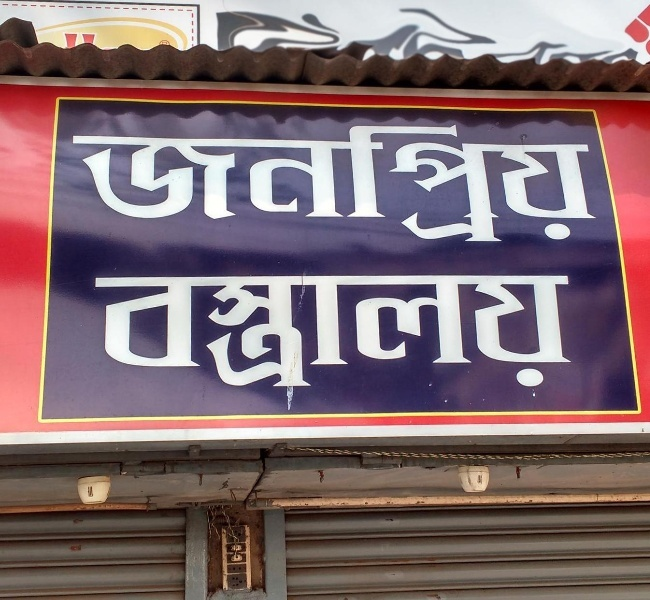text: (81, 122, 96, 256), (97, 122, 112, 256), (113, 122, 128, 256), (129, 122, 144, 256), (145, 122, 160, 256), (161, 122, 176, 256), (177, 122, 192, 256), (193, 122, 208, 256), (209, 122, 224, 256), (225, 122, 240, 256), (241, 122, 256, 256), (257, 122, 272, 256), (273, 122, 288, 256), (289, 122, 304, 256), (305, 122, 320, 256), (321, 122, 336, 256), (337, 122, 352, 256), (353, 122, 368, 256), (369, 122, 384, 256), (385, 122, 400, 256), (401, 122, 416, 256), (417, 122, 432, 256), (433, 122, 448, 256), (449, 122, 464, 256), (465, 122, 480, 256), (481, 122, 496, 256), (497, 122, 512, 256), (513, 122, 528, 256), (529, 122, 544, 256), (545, 122, 560, 256), (561, 122, 576, 256), (577, 122, 592, 256), (97, 267, 112, 391), (113, 267, 128, 391), (129, 267, 144, 391), (145, 267, 160, 391), (161, 267, 176, 391), (177, 267, 192, 391), (193, 267, 208, 391), (209, 267, 224, 391), (225, 267, 240, 391), (241, 267, 256, 391), (257, 267, 272, 391), (273, 267, 288, 391), (289, 267, 304, 391), (305, 267, 320, 391), (321, 267, 336, 391), (337, 267, 352, 391), (353, 267, 368, 391), (369, 267, 384, 391), (385, 267, 400, 391), (401, 267, 416, 391), (417, 267, 432, 391), (433, 267, 448, 391), (449, 267, 464, 391), (465, 267, 480, 391), (481, 267, 496, 391), (497, 267, 512, 391), (513, 267, 528, 391), (529, 267, 544, 391), (545, 267, 560, 391), (561, 267, 576, 391), (69, 122, 80, 256), (593, 122, 603, 256), (225, 4, 240, 67), (241, 4, 256, 67), (257, 4, 272, 67), (273, 4, 288, 67), (289, 4, 304, 67), (305, 4, 320, 67), (321, 4, 336, 67), (337, 4, 352, 67), (353, 4, 368, 67), (369, 4, 384, 67), (385, 4, 400, 67), (401, 4, 416, 67), (417, 4, 432, 67), (433, 4, 448, 67), (449, 4, 464, 67), (465, 4, 480, 67), (481, 4, 496, 67), (497, 4, 512, 67), (513, 4, 528, 67), (529, 4, 544, 67), (545, 4, 560, 67), (561, 4, 576, 67), (577, 4, 592, 67), (593, 4, 608, 67), (609, 4, 624, 67), (625, 4, 640, 67), (90, 267, 96, 391), (213, 4, 224, 67), (641, 4, 650, 67), (577, 267, 581, 391), (65, 30, 80, 45), (81, 30, 96, 45), (97, 30, 112, 45), (113, 30, 128, 45), (129, 30, 144, 45), (145, 30, 160, 45), (161, 30, 175, 45), (60, 30, 64, 45)
